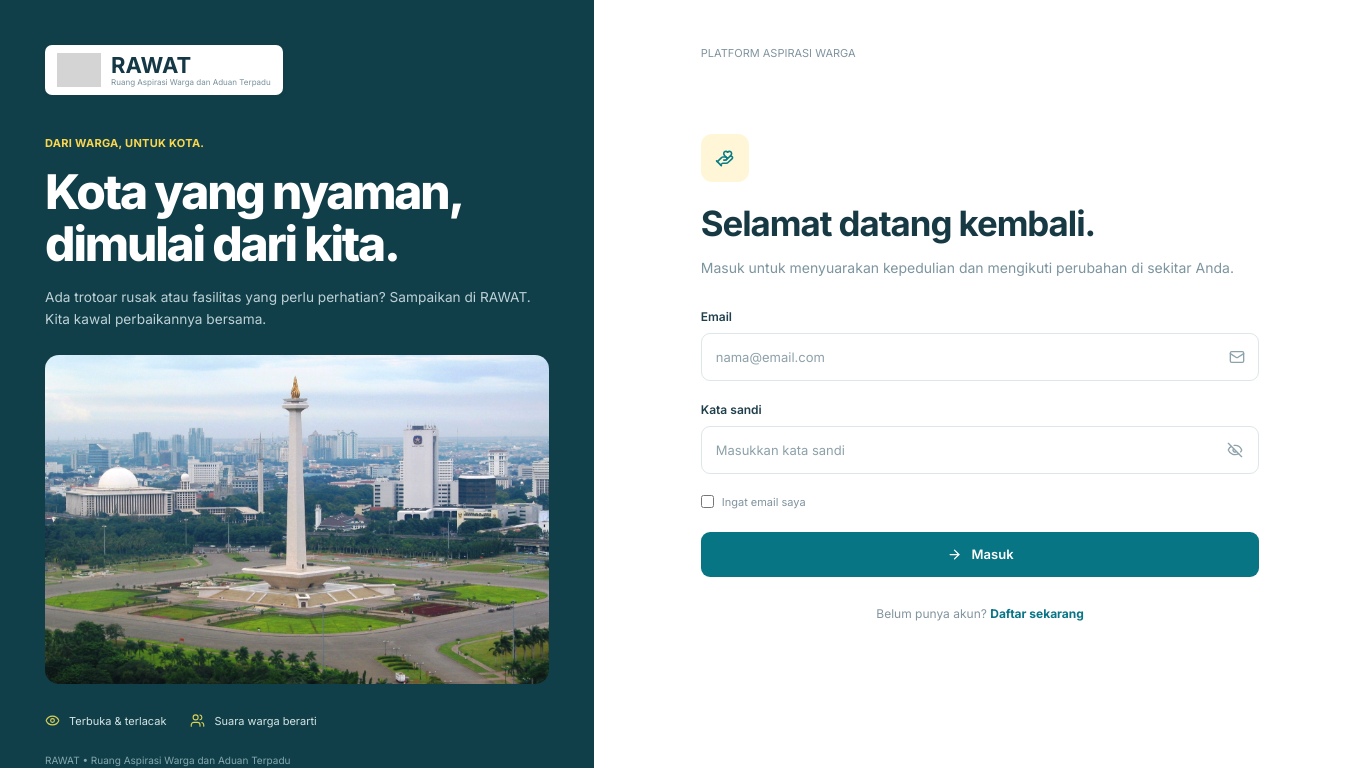
PenggunaView.handleLogin › C17-UT05 - Login gagal
Expected: the password field with id "login-password" is shown, [701,426,1260,474]
Type "samantha@example.com" into the field with id "login-email". click: (980, 357)
box: [701,333,1260,381]
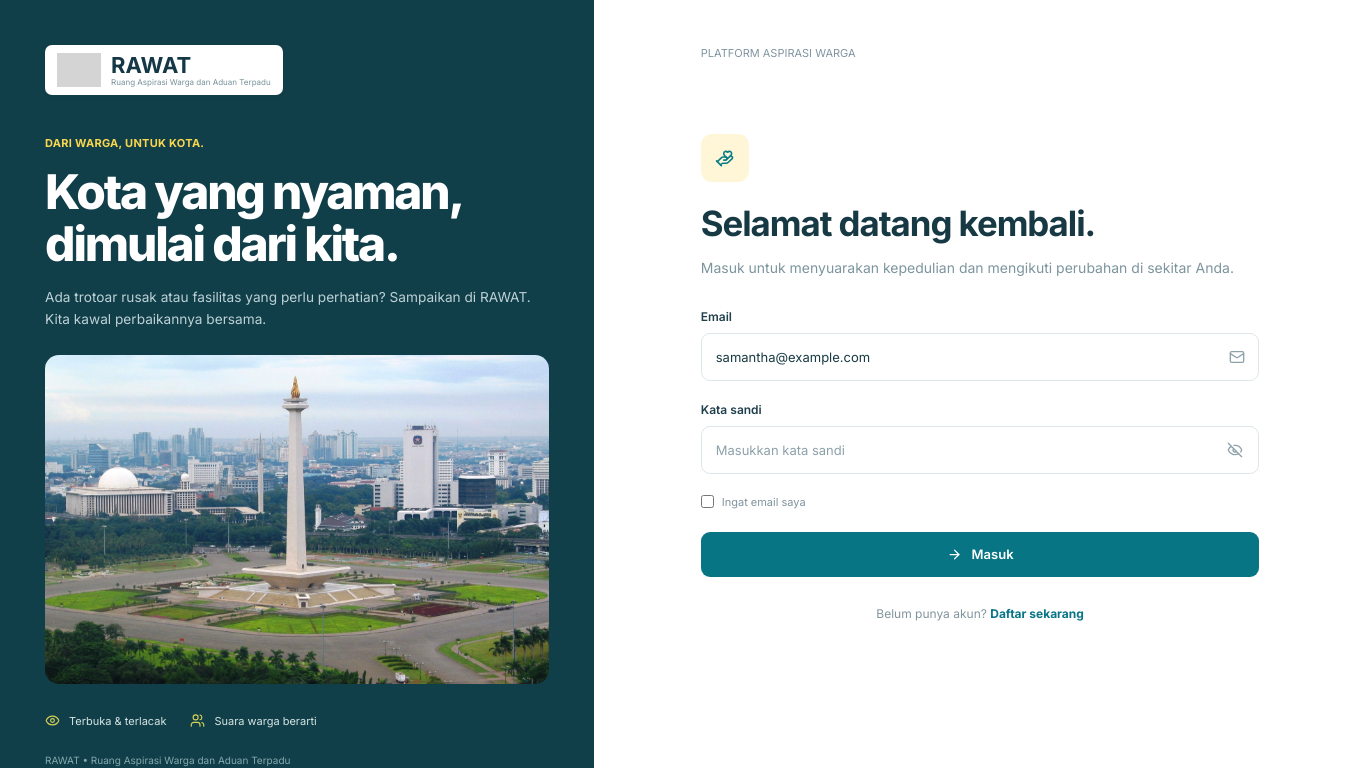
Type "WrongPass1!" into the password field with id "login-password". click: (980, 450)
box: [701,426,1260,474]
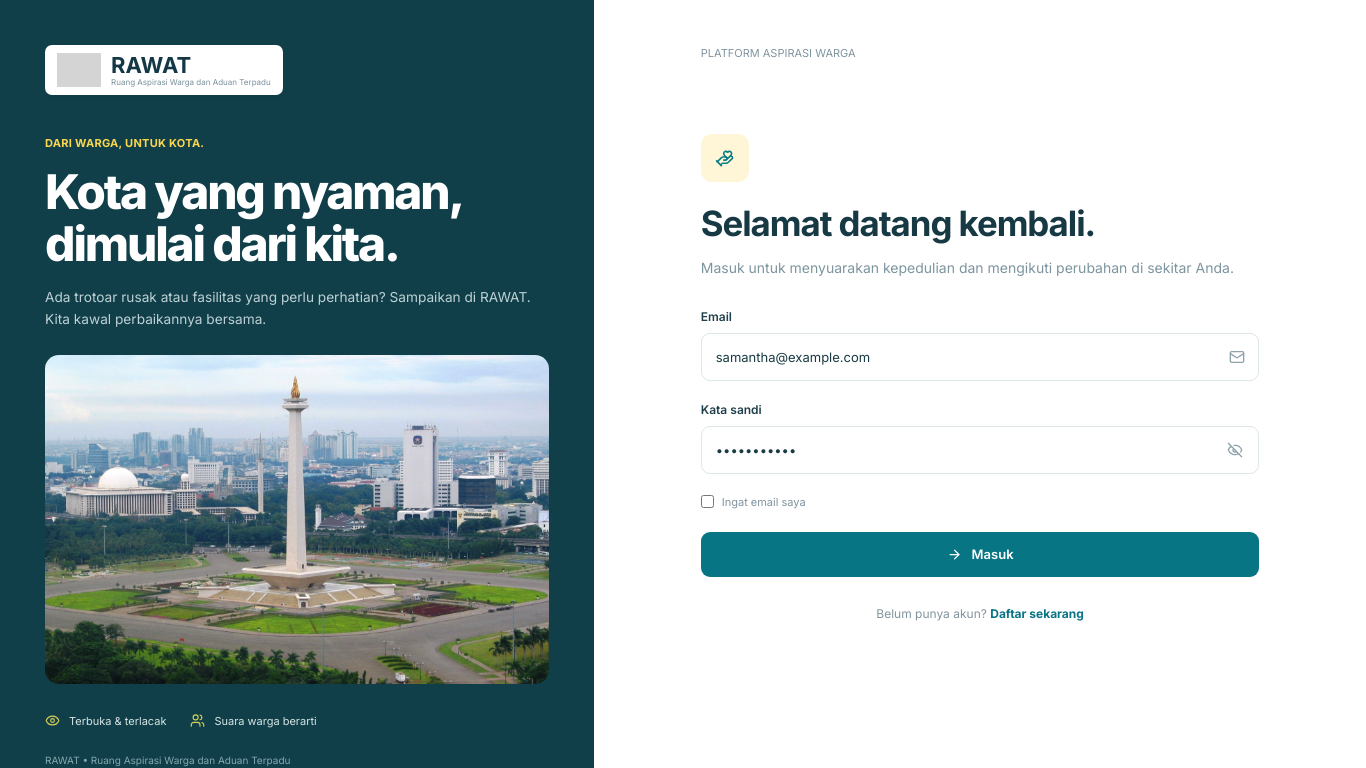
Submit the form "Email Kata sandi Ingat email saya Masuk", box [701,309,1260,577]
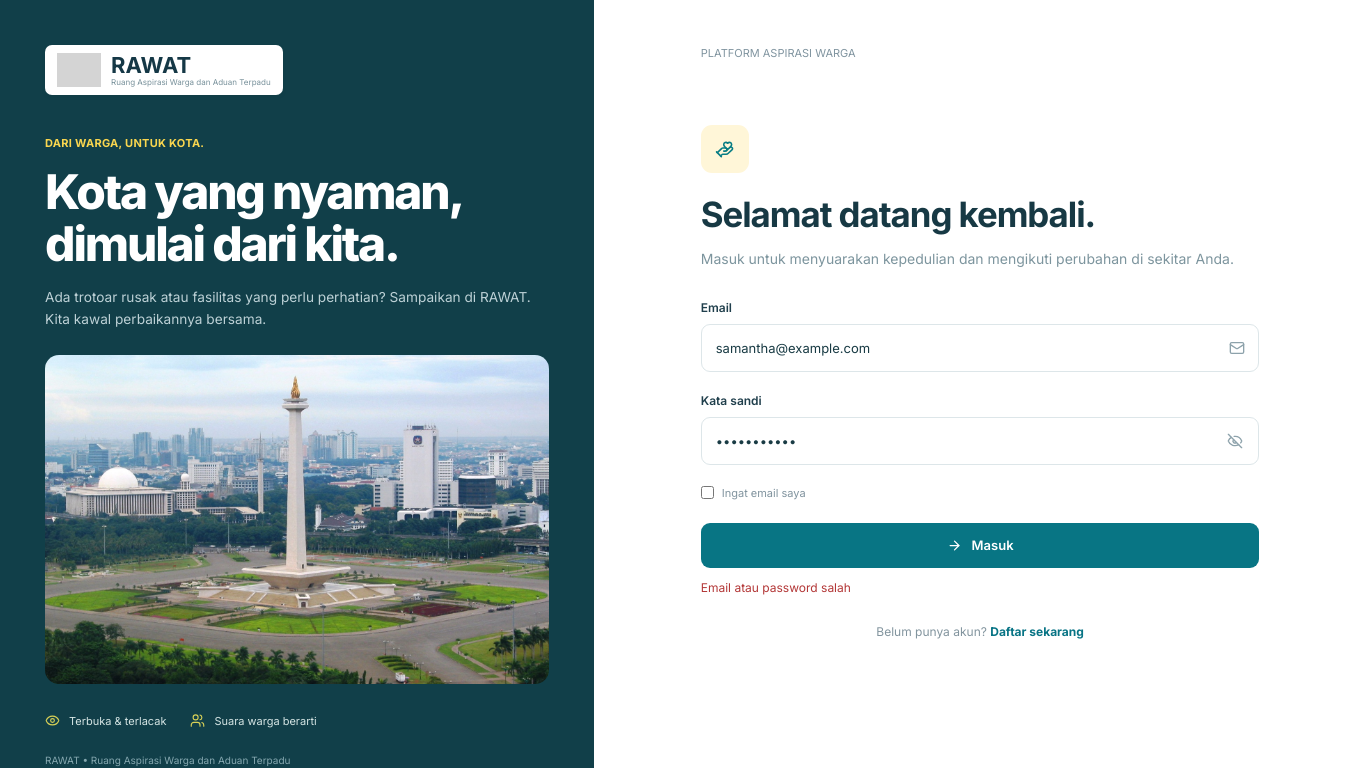
Expected: the button "Masuk" is enabled, [701,523,1260,568]
Now the text "Email atau password salah" is shown, box [701,580,851,595]
